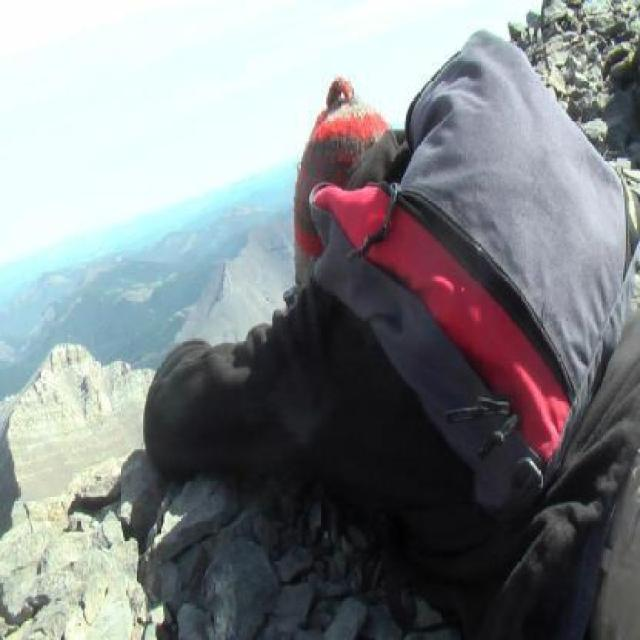backpack: (304, 22, 638, 524)
